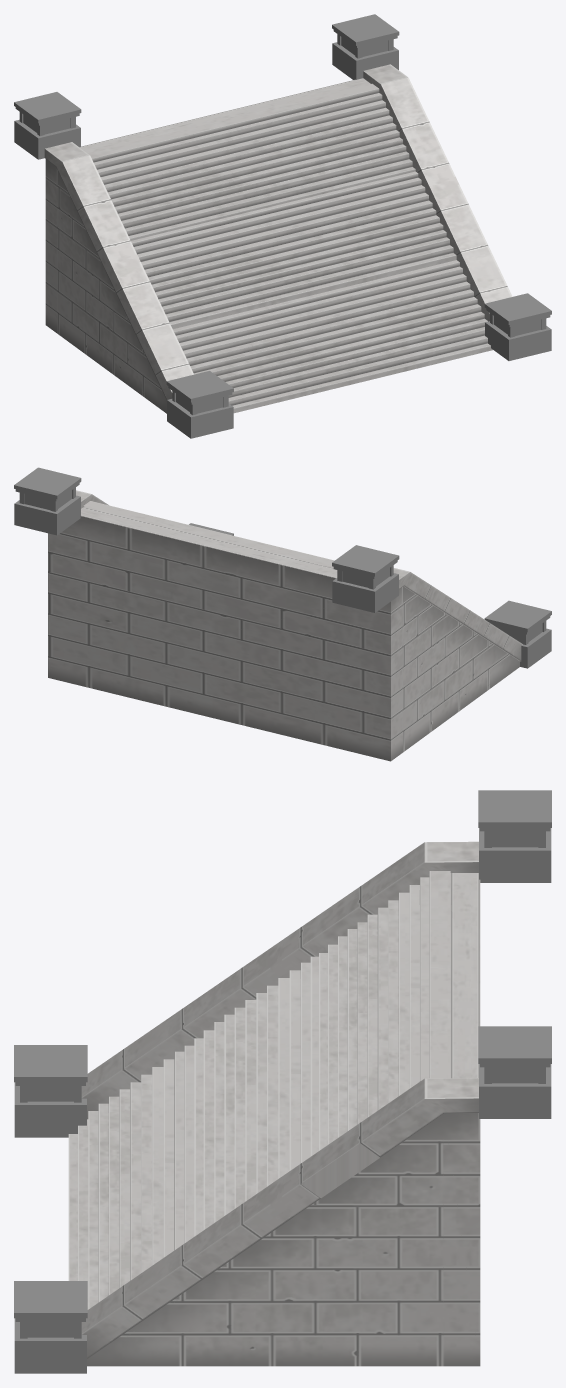
Rendered from Stage01_M_Floor.fbx.
3 views of the same model, one above another, from view 1: azimuth 30°, elevation 25°; view 2: azimuth 150°, elevation 25°; view 3: azimuth 270°, elevation 25° (orthographic). The views are drawn at different scales.
Parts seen in each view (by area): view 1: Floor, Floor_Deco003, Floor_Deco002, Floor_Deco001, Floor_Deco; view 2: Floor, Floor_Deco, Floor_Deco001, Floor_Deco003; view 3: Floor, Floor_Deco, Floor_Deco001, Floor_Deco002, Floor_Deco003.
Part boxes in pixels (x1,y1,x2,y2): Floor: (44,64,512,413); Floor_Deco003: (166,371,233,438); Floor_Deco002: (484,293,551,360); Floor_Deco001: (14,92,81,159); Floor_Deco: (332,14,399,79); Floor: (48,490,522,761); Floor_Deco: (14,467,81,535); Floor_Deco001: (332,545,399,612); Floor_Deco003: (484,600,551,668); Floor: (68,841,480,1366); Floor_Deco: (478,1026,551,1118); Floor_Deco001: (478,790,551,882); Floor_Deco002: (14,1281,87,1373); Floor_Deco003: (14,1045,87,1137).
Bounding box in the file's own units: 861 × 478 × 731.
